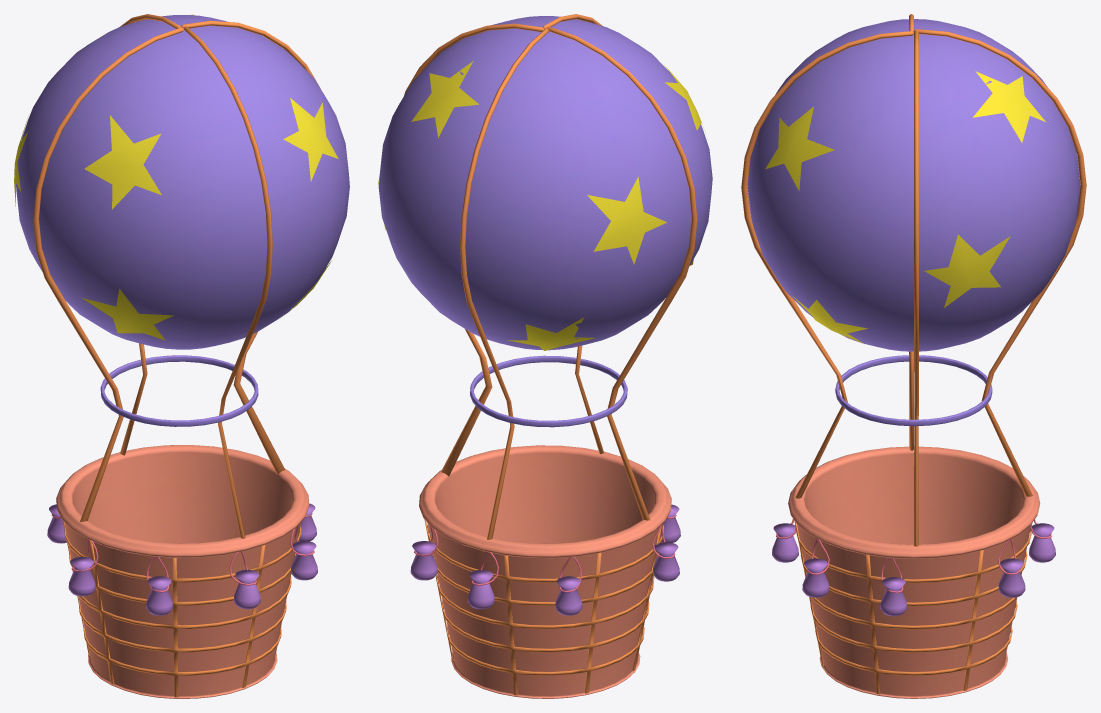
File: Baloon.fbx
3 views of the same model, side by side, from view 1: azimuth 30°, elevation 25°; view 2: azimuth 150°, elevation 25°; view 3: azimuth 270°, elevation 25° (orthographic).
Parts seen in each view (by area): view 1: Cylinder.012; view 2: Cylinder.012; view 3: Cylinder.012.
Boxes of the visible parts, x1,y1,x2,y2 form: Cylinder.012: [14, 14, 349, 698]; Cylinder.012: [378, 14, 712, 698]; Cylinder.012: [741, 14, 1086, 698].
Size of the model in its own units: 396 by 800 by 396.
